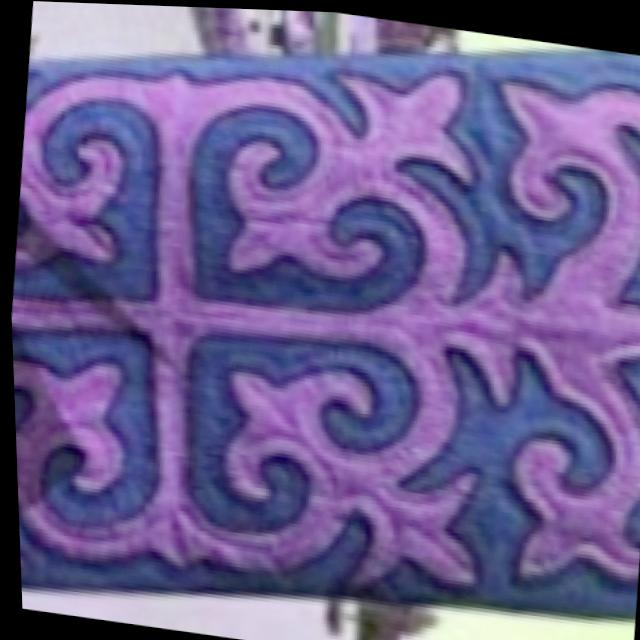Unity: (13, 54, 479, 599)
